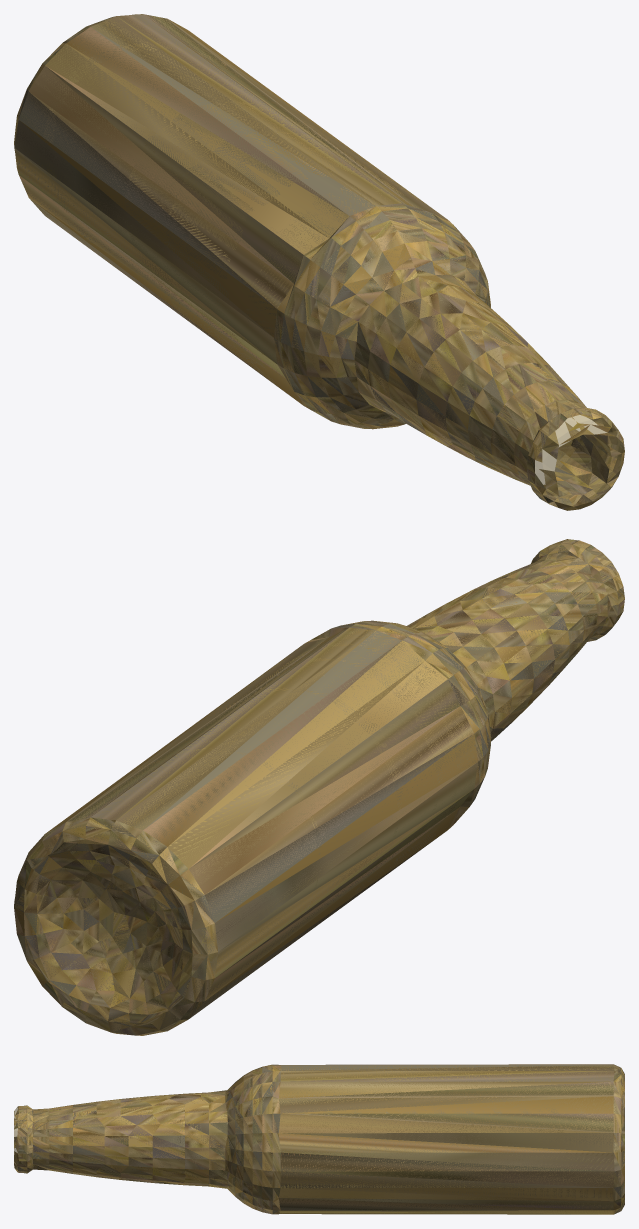
Rendered from model_align.obj.
3 views of the same model, one above another, from view 1: azimuth 30°, elevation 25°; view 2: azimuth 150°, elevation 25°; view 3: azimuth 270°, elevation 25° (orthographic). The views are drawn at different scales.
Size of the model in its own units: 0.0348 by 0.0348 by 0.1403.
